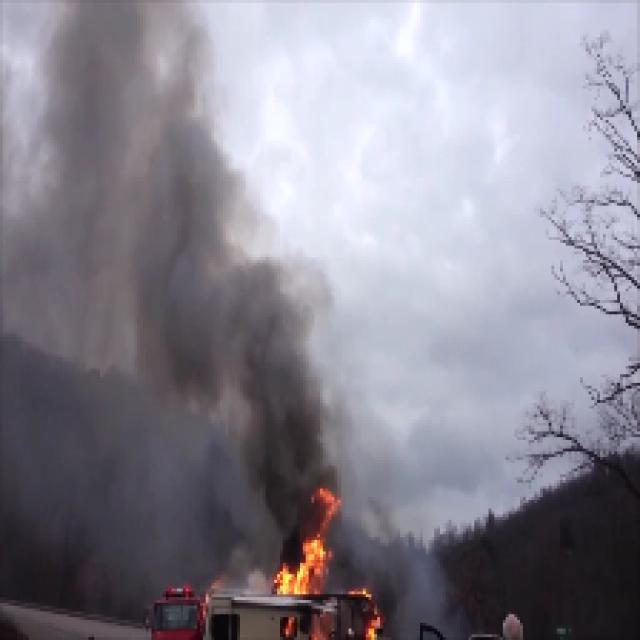fire: (273, 539, 335, 602)
smoke: (16, 12, 218, 483), (225, 191, 327, 471)
